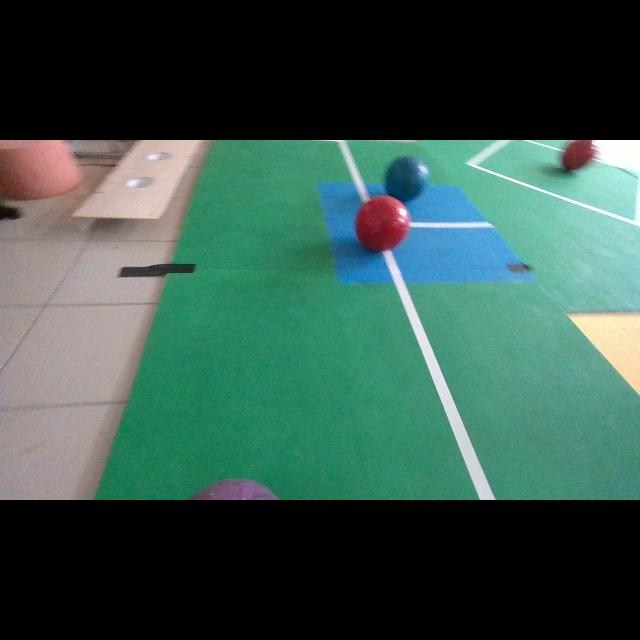B: (385, 156, 429, 202)
R: (355, 195, 411, 251), (562, 140, 595, 171)
